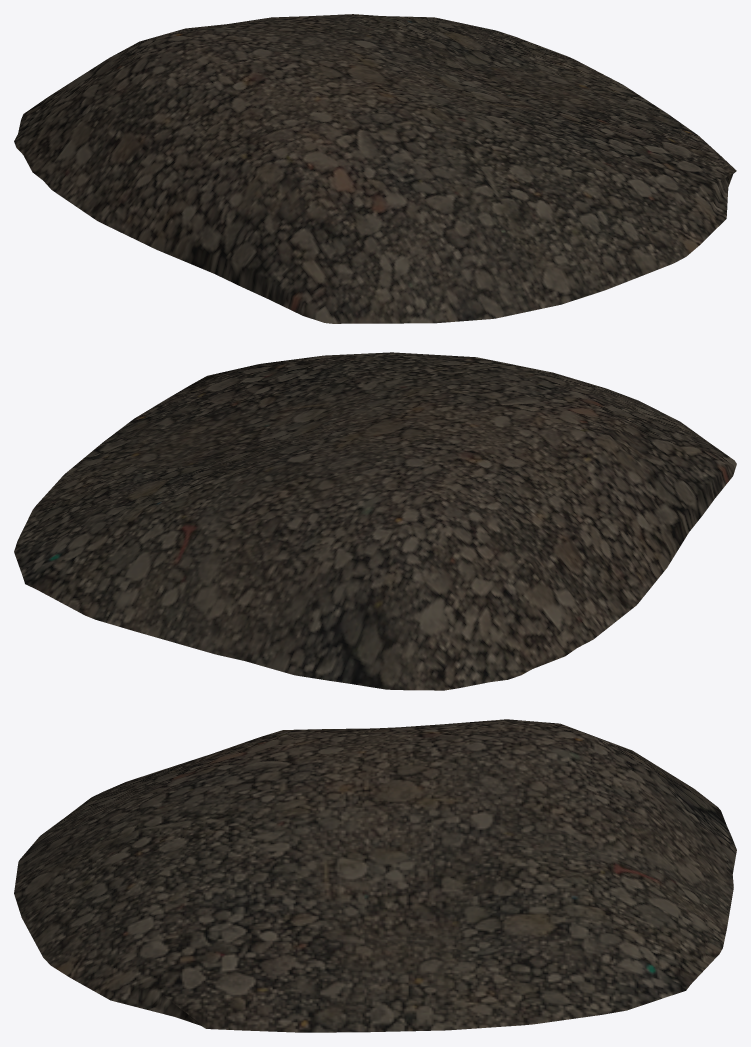
File: gravel_pile_hr_2.dae
3 views of the same model, one above another, from view 1: azimuth 30°, elevation 25°; view 2: azimuth 150°, elevation 25°; view 3: azimuth 270°, elevation 25° (orthographic). The views are drawn at different scales.
Visible parts, largest first — view 1: gravel_pile_hr_2; view 2: gravel_pile_hr_2; view 3: gravel_pile_hr_2.
Part boxes in pixels (<box>): gravel_pile_hr_2: <box>14,14,736,323</box>; gravel_pile_hr_2: <box>14,352,736,690</box>; gravel_pile_hr_2: <box>14,719,736,1032</box>.
Size of the model in its own units: 1.49 by 1.67 by 0.2791.
Materials: 1 (1 with a texture image).
